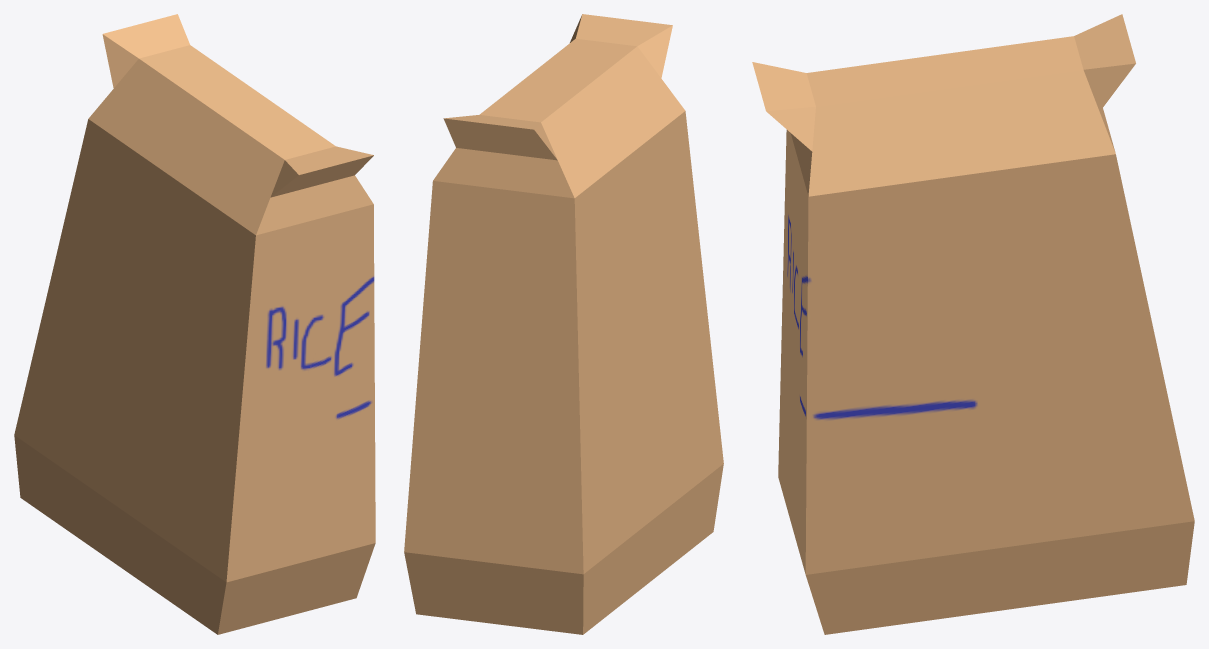
File: bag 1.fbx
3 views of the same model, side by side, from view 1: azimuth 30°, elevation 25°; view 2: azimuth 150°, elevation 25°; view 3: azimuth 270°, elevation 25° (orthographic). The views are drawn at different scales.
Parts seen in each view (by area): view 1: node_id5; view 2: node_id5; view 3: node_id5.
Part boxes in pixels (x1,y1,x2,y2): node_id5: (14, 14, 375, 634); node_id5: (404, 14, 723, 634); node_id5: (752, 14, 1194, 634).
Bounding box in the file's own units: 0.2137 × 0.5075 × 0.3668.
Materials: 1 (1 with a texture image).
